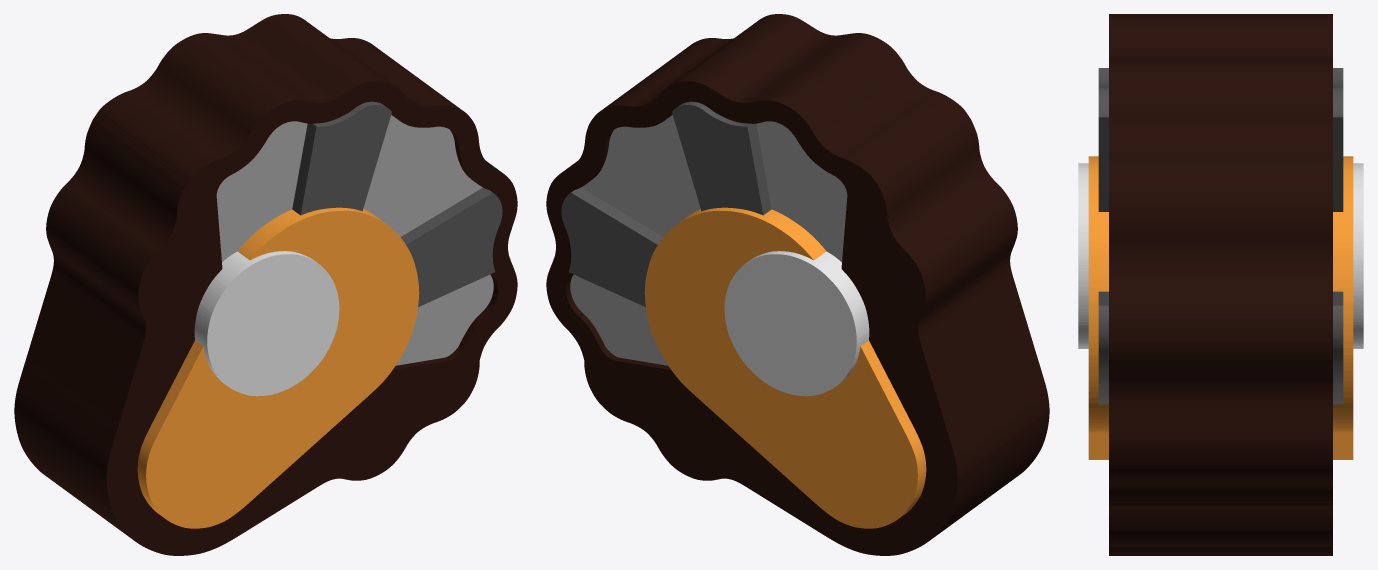
3 views of the same model, side by side, from view 1: azimuth 30°, elevation 25°; view 2: azimuth 150°, elevation 25°; view 3: azimuth 270°, elevation 25° (orthographic). The views are drawn at different scales.
Parts seen in each view (by area): view 1: U+1F9AA_layer01_obj00, U+1F9AA_layer03_obj00, U+1F9AA_layer00_obj00, U+1F9AA_layer04_obj00, U+1F9AA_layer02_obj00; view 2: U+1F9AA_layer01_obj00, U+1F9AA_layer03_obj00, U+1F9AA_layer00_obj00, U+1F9AA_layer04_obj00, U+1F9AA_layer02_obj00; view 3: U+1F9AA_layer01_obj00, U+1F9AA_layer03_obj00, U+1F9AA_layer02_obj00, U+1F9AA_layer04_obj00.
Part boxes in pixels (<box>): U+1F9AA_layer01_obj00: <box>14,14,517,555</box>; U+1F9AA_layer03_obj00: <box>137,207,419,528</box>; U+1F9AA_layer00_obj00: <box>216,115,493,365</box>; U+1F9AA_layer04_obj00: <box>194,251,339,396</box>; U+1F9AA_layer02_obj00: <box>292,101,502,307</box>; U+1F9AA_layer01_obj00: <box>546,14,1049,555</box>; U+1F9AA_layer03_obj00: <box>644,207,926,528</box>; U+1F9AA_layer00_obj00: <box>570,115,847,365</box>; U+1F9AA_layer04_obj00: <box>724,251,869,396</box>; U+1F9AA_layer02_obj00: <box>561,101,771,307</box>; U+1F9AA_layer01_obj00: <box>1109,14,1332,555</box>; U+1F9AA_layer03_obj00: <box>1088,156,1353,459</box>; U+1F9AA_layer02_obj00: <box>1098,68,1343,404</box>; U+1F9AA_layer04_obj00: <box>1078,163,1363,348</box>.
Bounding box in the file's own units: 0.5673 × 0.5677 × 0.28.
